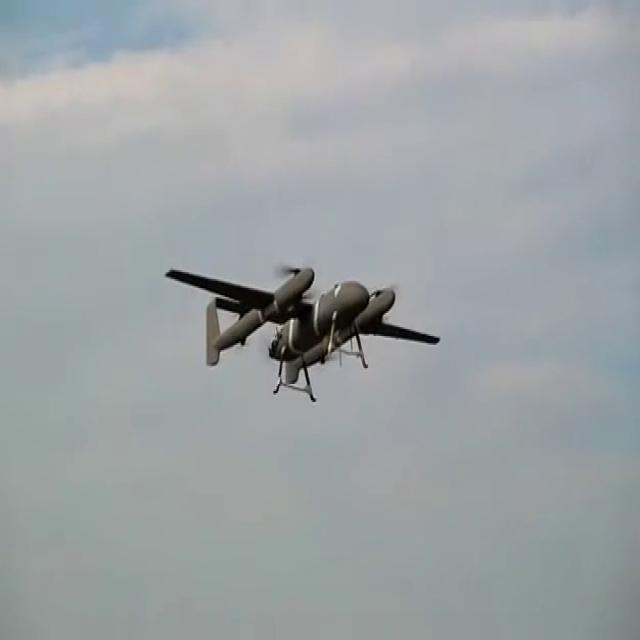iha: (168, 261, 440, 405)
